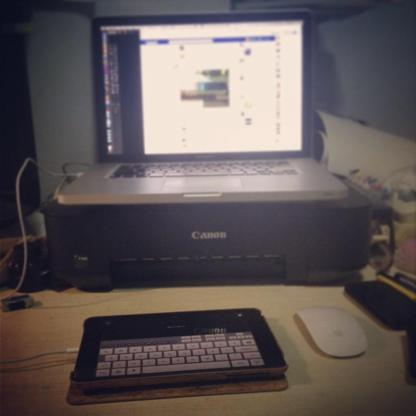board: (58, 3, 349, 197)
